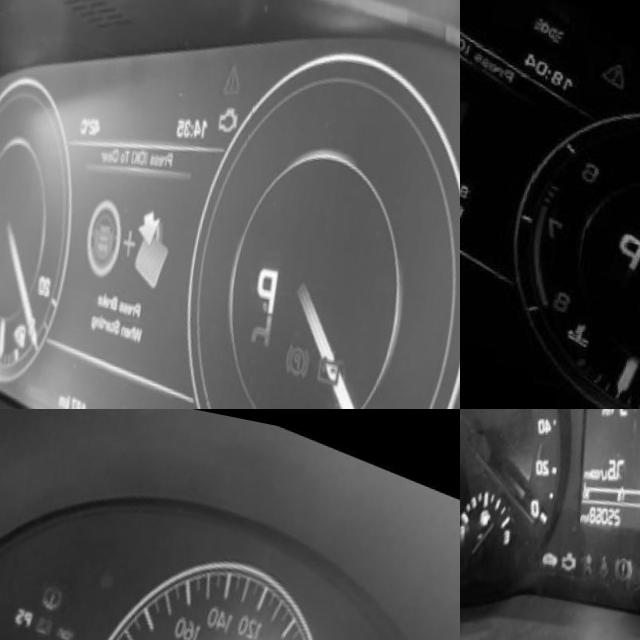Engine cooling system: (571, 306, 610, 348)
